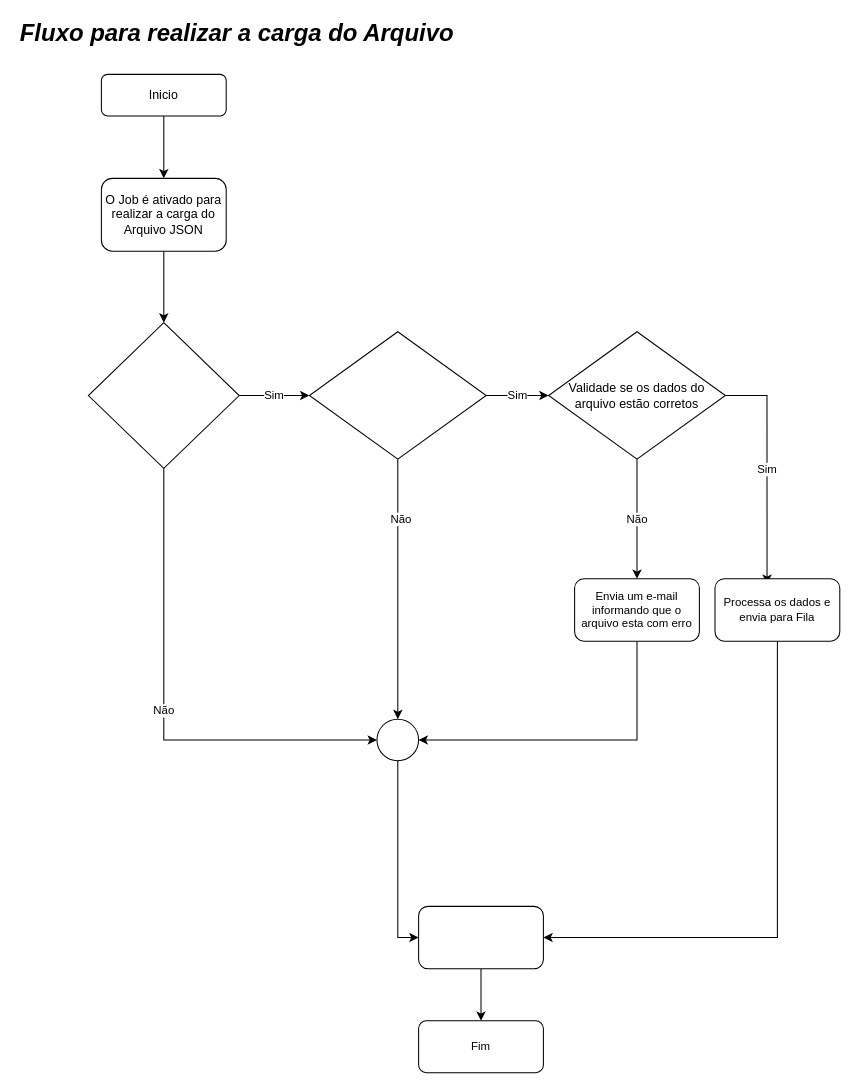
Image size: 858x1091. Some labels were removed from this diagram. The box of each missing label's shape, as (x1, y1, x2, y2) in pixels:
Reagenda o job para próxima hora.: (418, 905, 543, 969)
Validar se o arquivo não foi processado: (308, 331, 486, 459)
Verifica se existe um arquivo no diretório: (87, 322, 239, 468)
